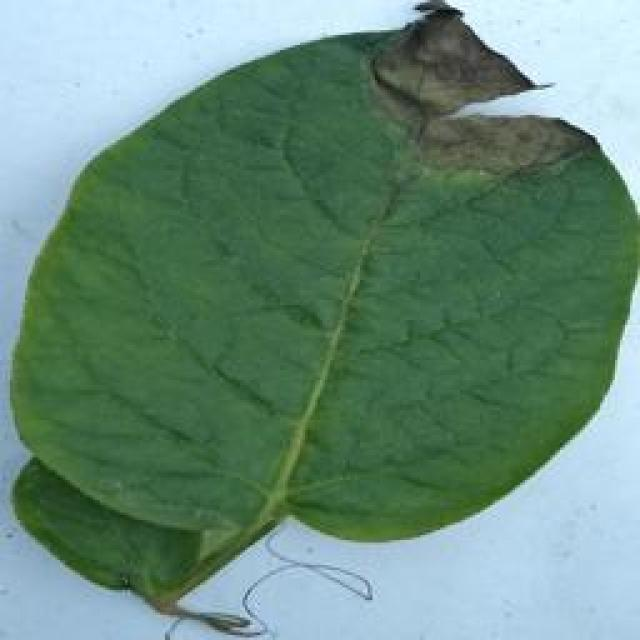Potato_Late_Blight: (9, 6, 625, 631)
